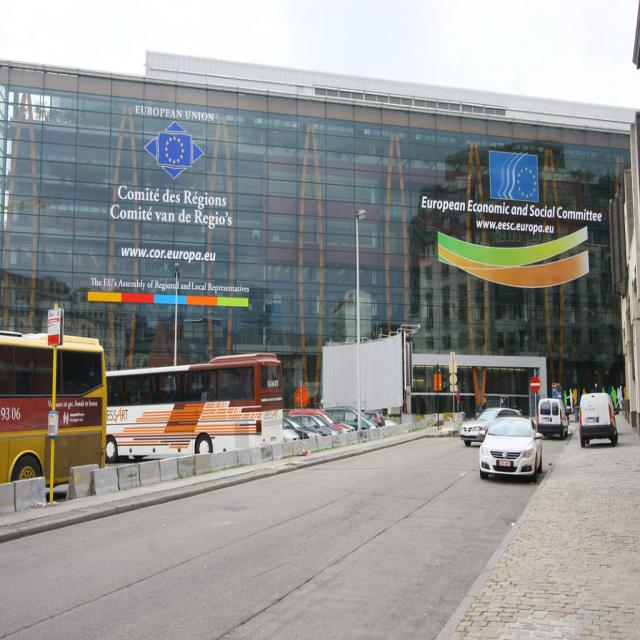car: (477, 412, 541, 480)
